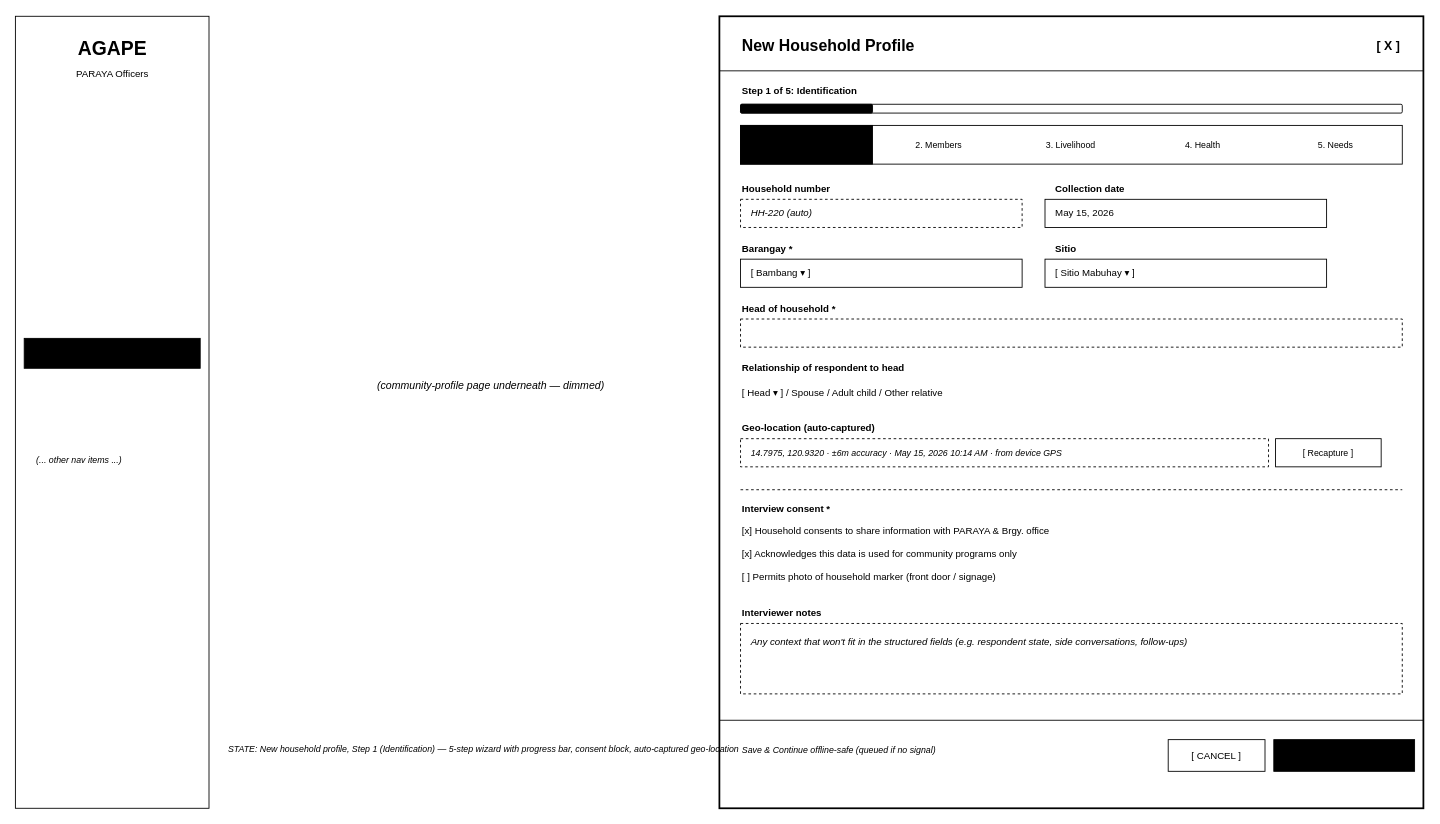
The diagram is 1440 pixels wide and 824 high, and some of its shapes have lost their labels. The centre of each missing label's shape, as x and y in pixels:
"1. Identification" goes at pixel 806 144.
"[ NEXT: MEMBERS → ]" goes at pixel 1344 755.
"[x] Community Profile" goes at pixel 111 352.
"e.g. Maria Reyes" goes at pixel 1071 332.
